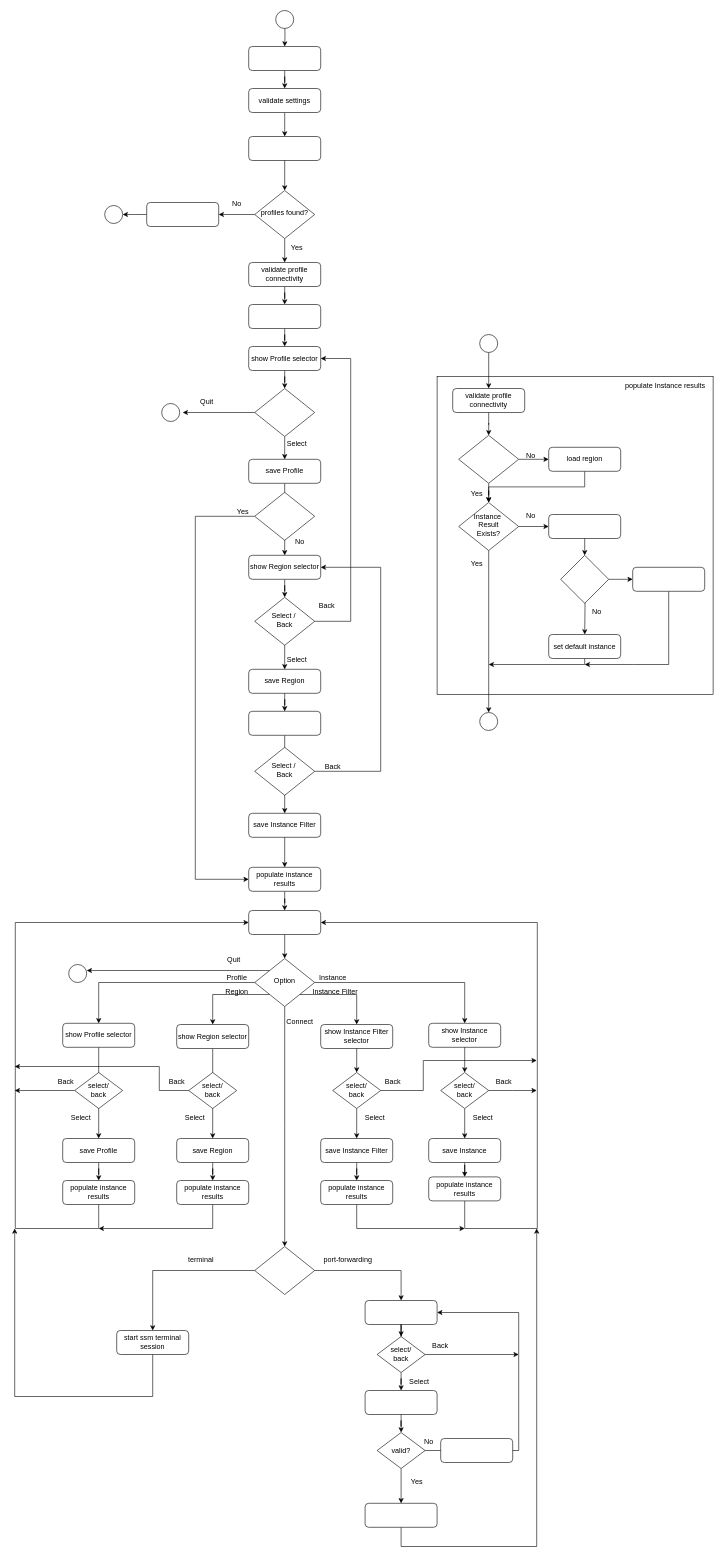
Image size: 724x1562. Some labels were removed from this diagram. Each missing label, with the centre of its shape:
error?: (x=584, y=579)
handle load instance results error: (x=668, y=579)
initialize Session object: (x=284, y=316)
is region cached?: (x=488, y=459)
load instance results: (x=584, y=526)
read profiles file: (x=284, y=148)
read settings file: (x=284, y=58)
Select / Quit: (x=284, y=412)
show Configurator: (x=284, y=922)
show Instance Filter: (x=284, y=723)
show no profiles found dialog: (x=182, y=214)
show port occupied: (x=476, y=1450)
show port selector: (x=400, y=1312)
start ssm port-forwarding session: (x=400, y=1515)
terminal or port-forwarding: (x=284, y=1270)
use defaults at startup?: (x=284, y=516)
validate port availability: (x=400, y=1402)
